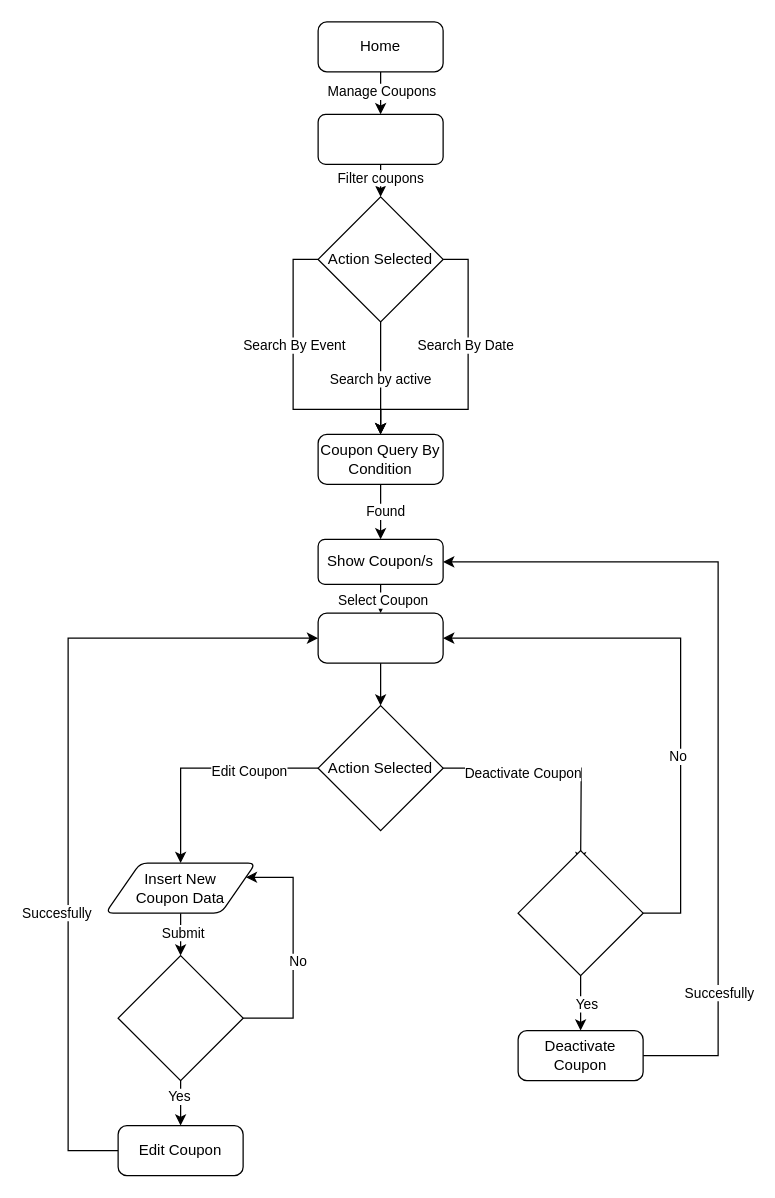
Image size: 775x1198. Some labels were removed from this diagram. The shapes that lost their labels are listed below. From the top down, each one's centre as x and y in pixels, then its label:
At (380,138): "List Coupons".
At (380,637): "See coupon details".
At (580,912): "Sure to deactivate the coupon?".
At (180,1017): "Is Data valid?".
